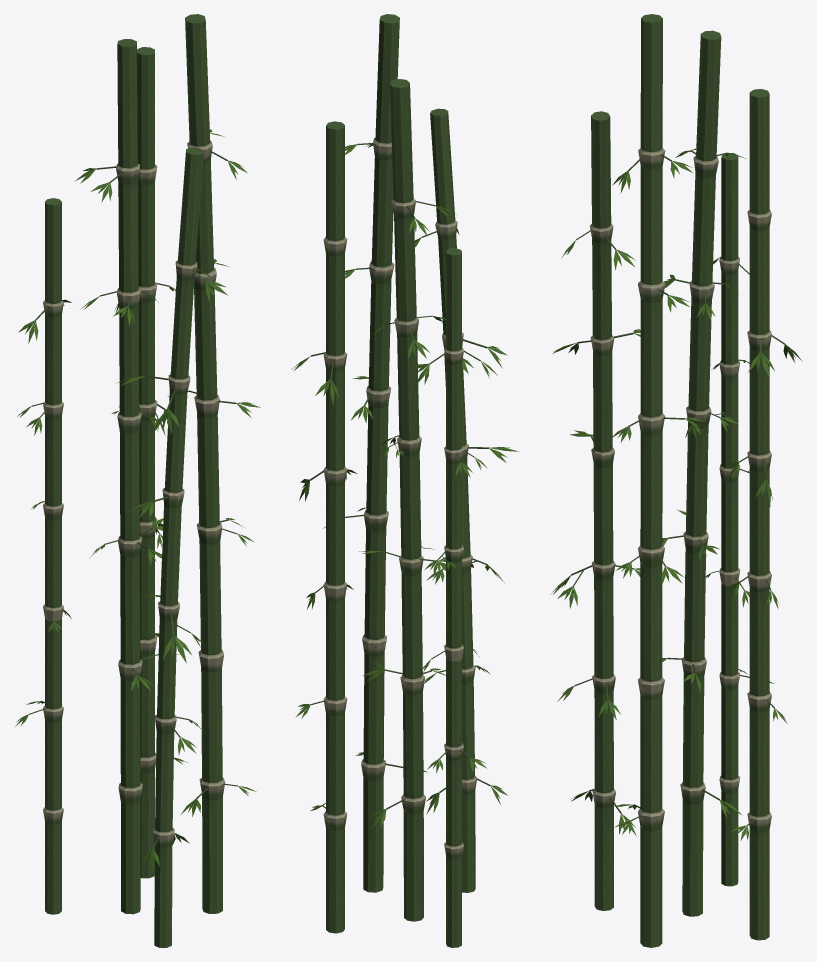
Rendered from bamboo.glb.
The picture shows the model from 3 angles, left to right: view 1: azimuth 30°, elevation 25°; view 2: azimuth 150°, elevation 25°; view 3: azimuth 270°, elevation 25°; orthographic projection. The views are drawn at different scales.
Parts seen in each view (by area): view 1: BambooTree_mesh; view 2: BambooTree_mesh; view 3: BambooTree_mesh.
Part boxes in pixels (left/top/right/bottom): BambooTree_mesh: left=15, top=14, right=260, bottom=947; BambooTree_mesh: left=291, top=14, right=519, bottom=947; BambooTree_mesh: left=550, top=14, right=802, bottom=947.
Bounding box in the file's own units: 4.16 × 18.13 × 4.56.
Materials: 1 (1 with a texture image).
